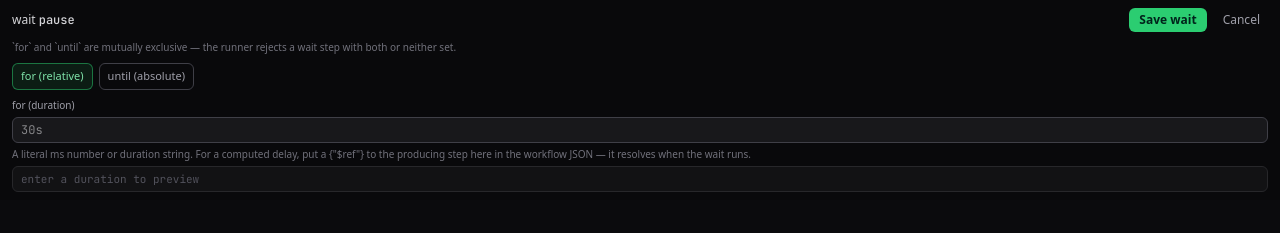
WaitEditor — for (relative duration) › blocks save on an invalid duration instead of writing it silently
This screenshot has width=1280, height=233.
Type "1.5h" into the field labelled "for" at (640, 130), box top-left (12, 116), bottom-right (1268, 142)
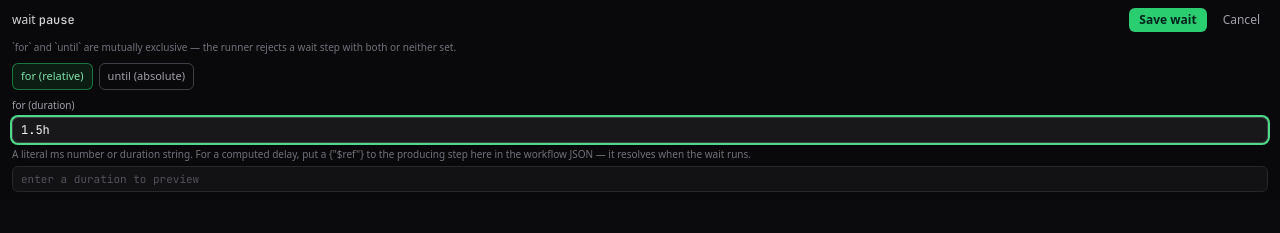
Click the button "Save wait" at (1168, 20), box top-left (1129, 8), bottom-right (1207, 32)
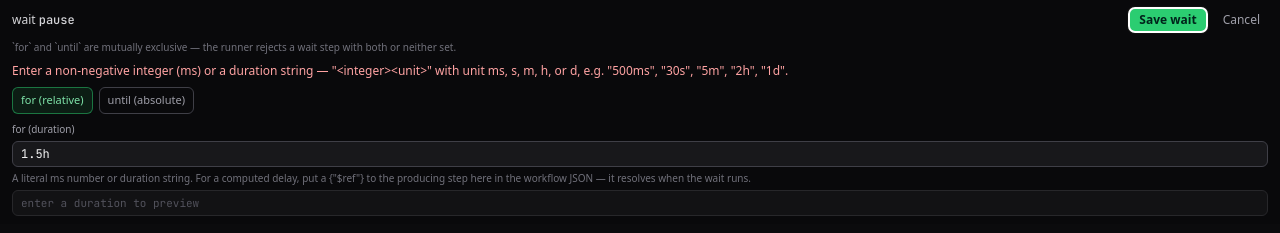
Expected: the text "Enter a non-negative integer" is shown, top-left (12, 62), bottom-right (788, 79)
